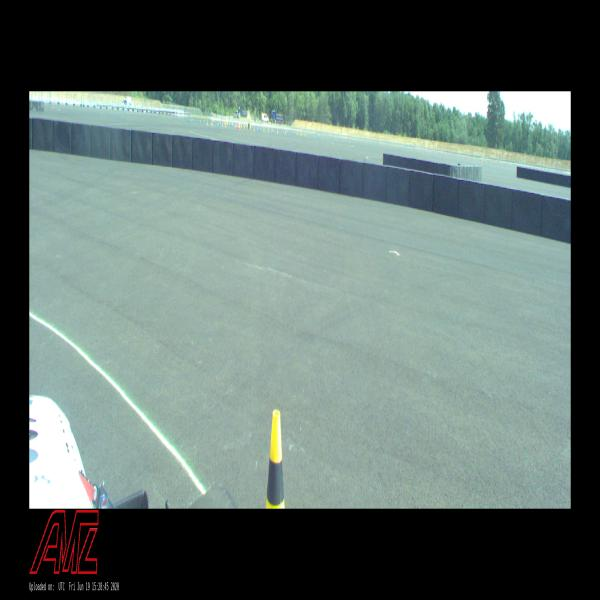yellow_cone: (266, 410, 285, 508)
